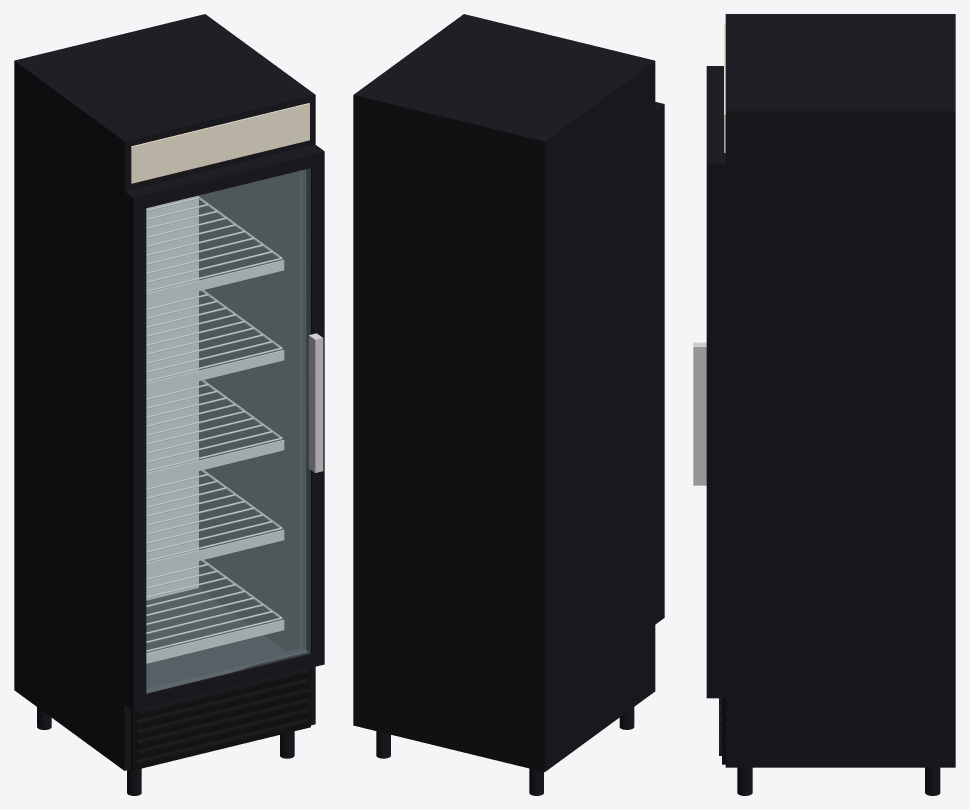
File: 061_glass_door_beverage_merchandiser.glb
The picture shows the model from 3 angles, left to right: view 1: azimuth 30°, elevation 25°; view 2: azimuth 150°, elevation 25°; view 3: azimuth 270°, elevation 25°; orthographic projection. The views are drawn at different scales.
Visible parts, largest first — view 1: 023_insulated_glass_door, 000_cabinet_side_l, 001_cabinet_side_r, 006_header_canopy, 008_interior_liner, 003_compressor_deck, 019_door_stile_l, 020_door_stile_r, 004_louvred_grille, 007_header_lightbox, 005_grille_louvres_6, 022_door_top_rail (+13 smaller); view 2: 002_cabinet_back, 000_cabinet_side_l, 006_header_canopy, 001_cabinet_side_r, 003_compressor_deck, 019_door_stile_l; view 3: 001_cabinet_side_r, 006_header_canopy, 003_compressor_deck, 020_door_stile_r, 024_door_handle, 000_cabinet_side_l, 022_door_top_rail, 002_cabinet_back.
Part boxes in pixels (x1,y1,x2,y2): 023_insulated_glass_door: [146, 168, 310, 693]; 000_cabinet_side_l: [14, 57, 140, 770]; 001_cabinet_side_r: [192, 14, 315, 725]; 006_header_canopy: [14, 14, 315, 190]; 008_interior_liner: [146, 195, 198, 600]; 003_compressor_deck: [14, 588, 315, 769]; 019_door_stile_l: [124, 188, 146, 710]; 020_door_stile_r: [302, 144, 324, 667]; 004_louvred_grille: [131, 668, 310, 770]; 007_header_lightbox: [131, 103, 309, 183]; 005_grille_louvres_6: [136, 668, 309, 764]; 022_door_top_rail: [137, 148, 311, 207]; 002_cabinet_back: [369, 92, 537, 768]; 000_cabinet_side_l: [529, 57, 655, 771]; 006_header_canopy: [353, 14, 655, 190]; 001_cabinet_side_r: [353, 14, 478, 728]; 003_compressor_deck: [353, 653, 655, 771]; 019_door_stile_l: [655, 102, 664, 624]; 001_cabinet_side_r: [725, 103, 955, 767]; 006_header_canopy: [725, 14, 955, 163]; 003_compressor_deck: [725, 698, 955, 767]; 020_door_stile_r: [706, 156, 725, 698]; 024_door_handle: [693, 342, 706, 485]; 000_cabinet_side_l: [725, 14, 955, 21]; 022_door_top_rail: [706, 72, 725, 156]; 002_cabinet_back: [936, 22, 955, 102].
Bounding box in the file's own units: 0.6 × 1.99 × 0.685.
